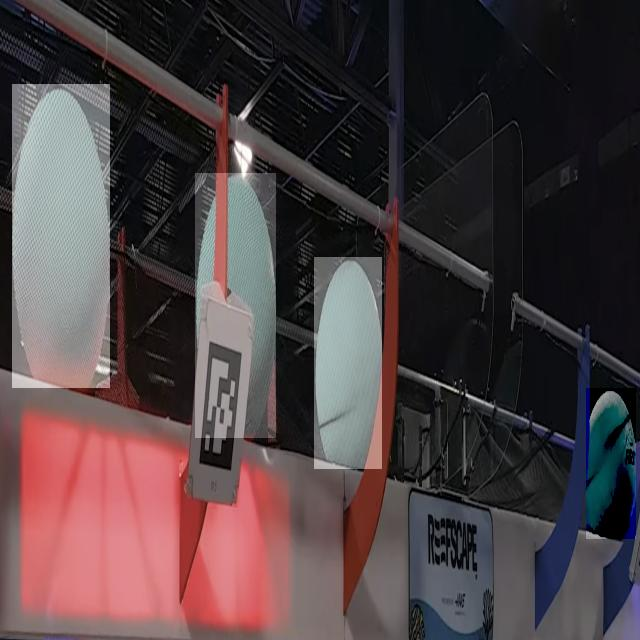Algae: (12, 84, 110, 388), (195, 173, 276, 438), (314, 257, 382, 469), (586, 388, 636, 539)
